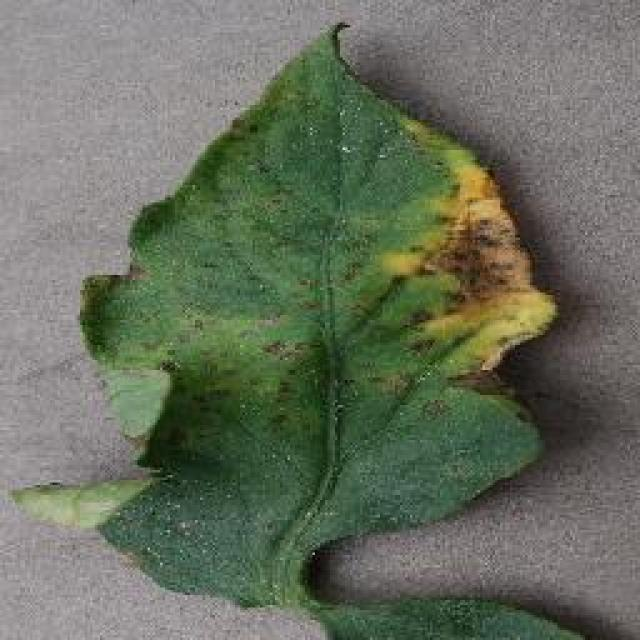Tomato___Bacterial_spot: (5, 19, 591, 638)
